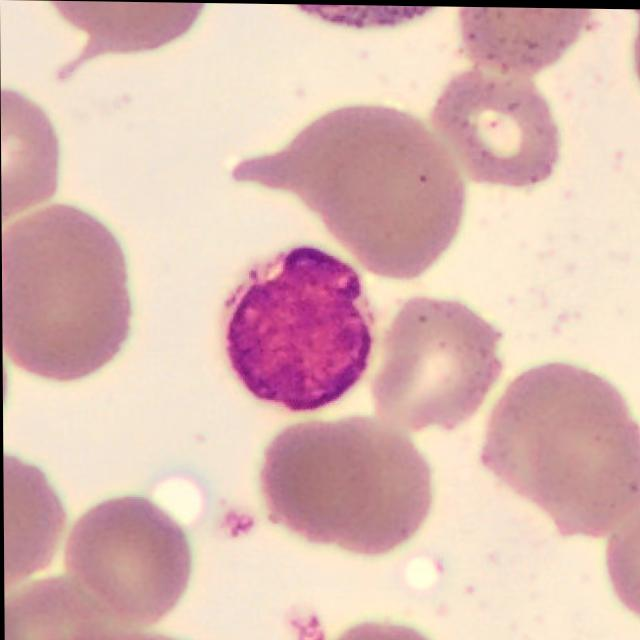Linfocito: (219, 246, 377, 414)
